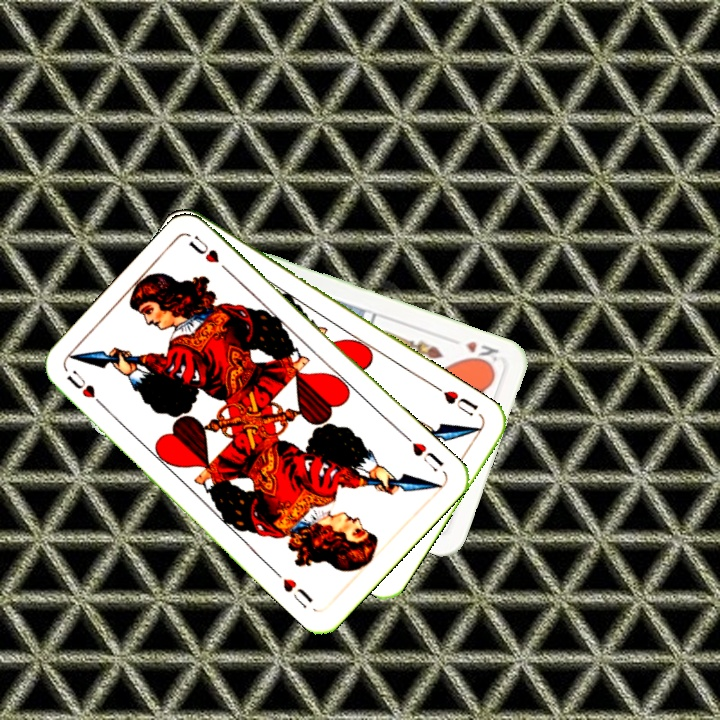HK: (462, 337, 504, 369)
HU: (62, 366, 109, 412), (400, 431, 447, 475), (432, 382, 481, 419)
